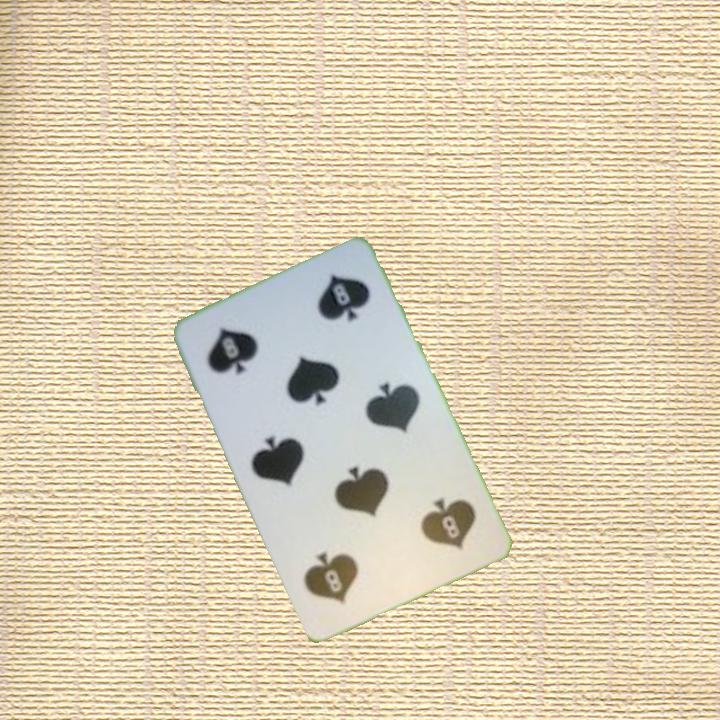s_8.png: (185, 293, 310, 411), (369, 468, 494, 586)
